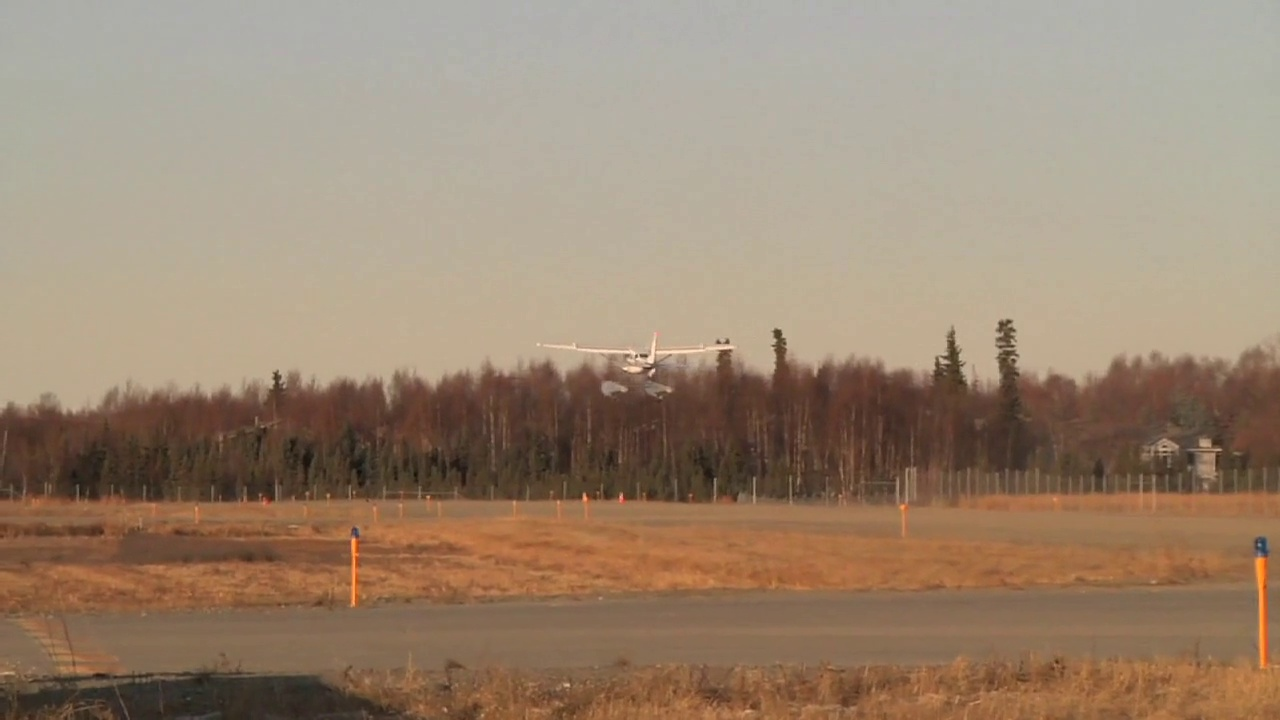plane: (533, 330, 734, 400)
